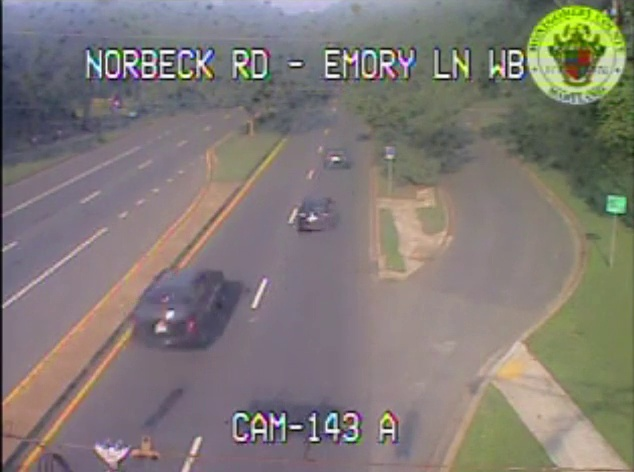car: (134, 268, 226, 349), (296, 198, 334, 230), (322, 149, 348, 169)
